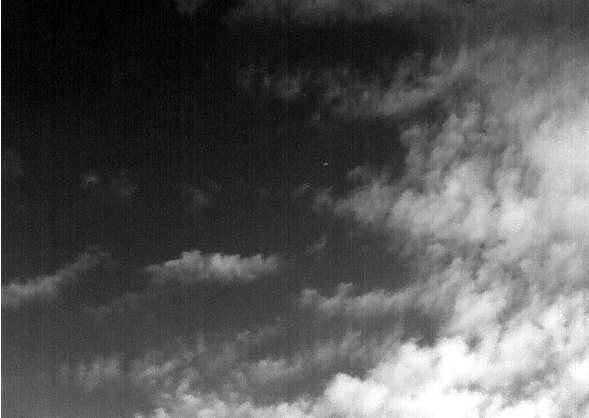dim target: (323, 161, 328, 166)
